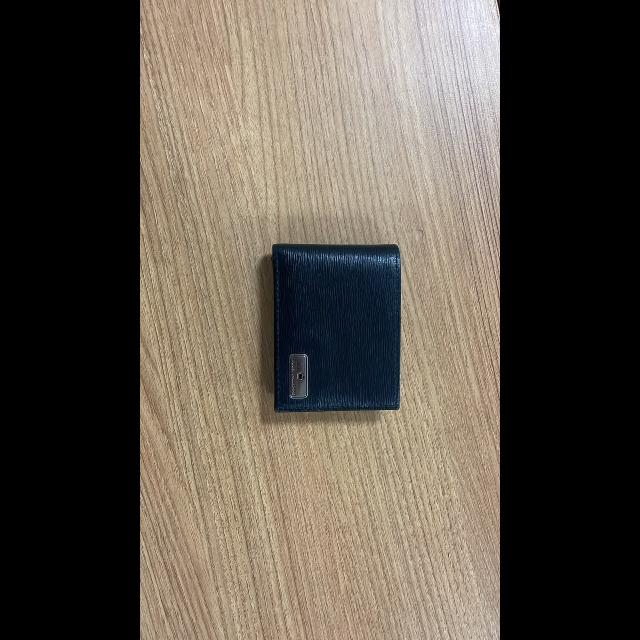wallet: (260, 216, 424, 438)
